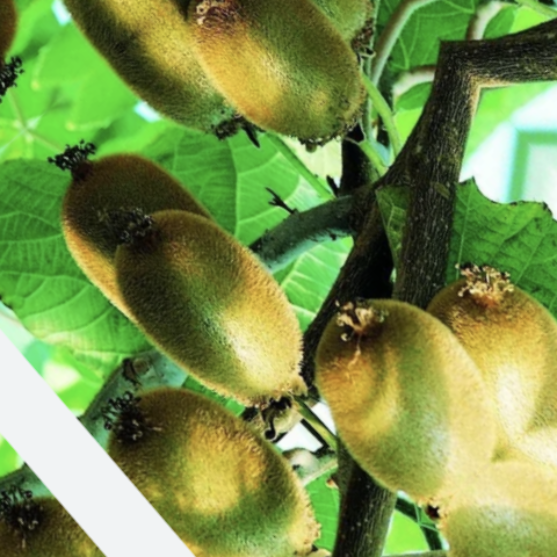kiwi: (64, 156, 364, 465), (249, 263, 535, 551), (42, 310, 364, 557), (151, 0, 407, 188)
